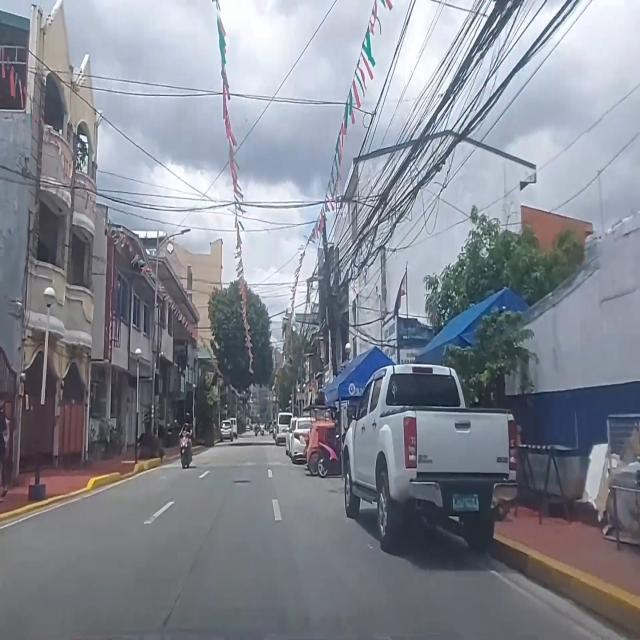car: (342, 363, 519, 552), (290, 417, 316, 464), (276, 411, 294, 444), (220, 420, 233, 441)
motorcycle: (180, 411, 194, 468)
tricycle: (303, 404, 336, 475)
